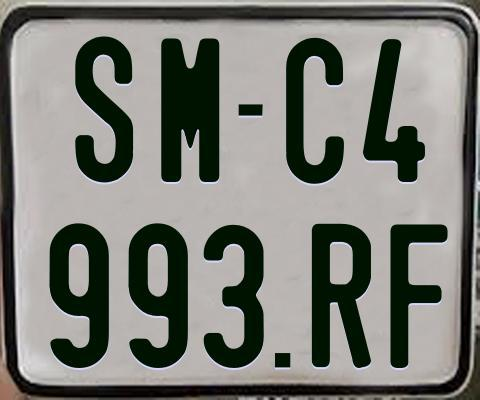3: (201, 222, 265, 371)
4: (361, 36, 429, 184)
9: (125, 222, 189, 371), (48, 222, 109, 371)
C: (284, 38, 343, 184)
F: (390, 221, 449, 365)
M: (161, 35, 219, 185)
R: (311, 222, 370, 366)
S: (75, 36, 139, 188)
